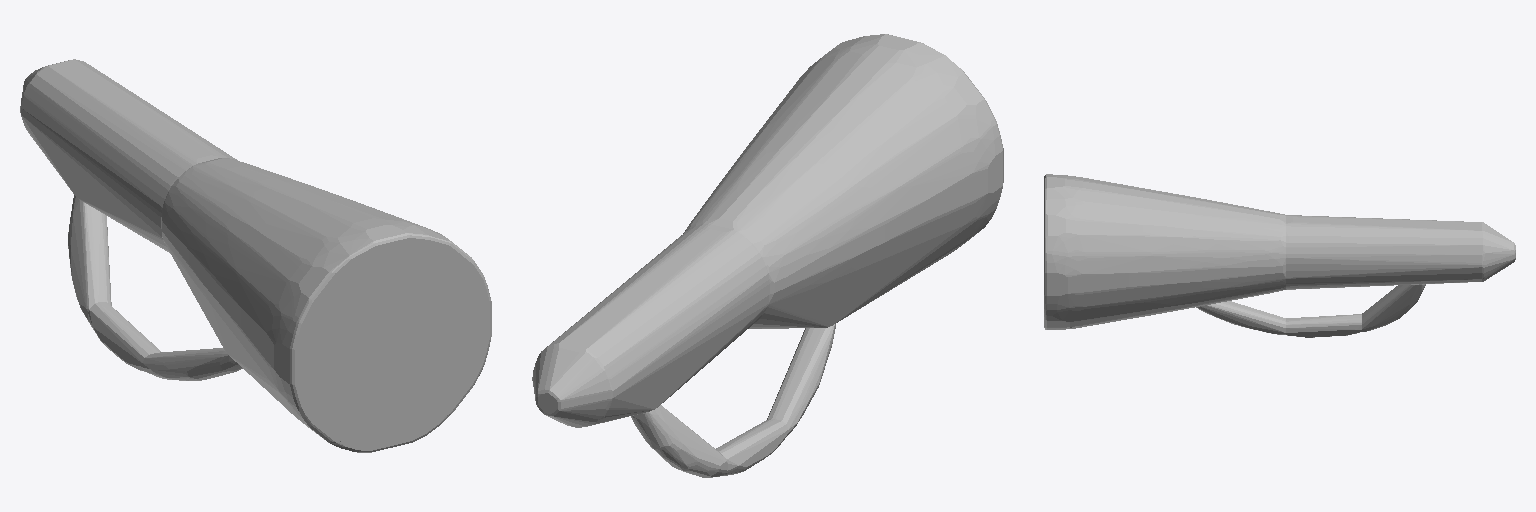
URDF robot description (root):
<?xml version="1.0"?>
<robot name="root">
  <link name="base_link">
    <visual>
      <origin xyz="0 0 0" rpy="0 0 0" />
      <geometry>
        <mesh filename="../meshes/unidex_core_bottle-4a1fe3495565001d211b8bef58aae14f_012.obj" scale="1.0000E+00 1.0000E+00 1.0000E+00" />
      </geometry>
      <material name="">
        <color rgba="7.50E-01 7.50E-01 7.50E-01 1" />
      </material>
    </visual>
    <collision>
      <origin xyz="0 0 0" rpy="0 0 0" />
      <geometry>
        <mesh filename="../meshes/unidex_core_bottle-4a1fe3495565001d211b8bef58aae14f_012.obj" scale="1.0000E+00 1.0000E+00 1.0000E+00" />
      </geometry>
    </collision>
  </link>
</robot>

--- What the picture shows (computed from the rendered views, not written in the file) ---
The picture shows the robot from 3 angles, left to right: view 1: azimuth 30°, elevation 25°; view 2: azimuth 150°, elevation 25°; view 3: azimuth 270°, elevation 25°; orthographic projection.
Model root with 1 links and 0 joints (none), rooted at base_link, posed all joints at 0.
Links seen in each view (by area): view 1: base_link; view 2: base_link; view 3: base_link.
Link boxes in pixels (left/top/right/bottom): base_link: left=20, top=59, right=491, bottom=452; base_link: left=532, top=34, right=1003, bottom=477; base_link: left=1044, top=174, right=1515, bottom=337.
Size in the robot's own frame: 0.0712 by 0.2184 by 0.0879 metres.
Meshes: 1 distinct files referenced, 1 mesh visuals loaded (1 OBJ).
